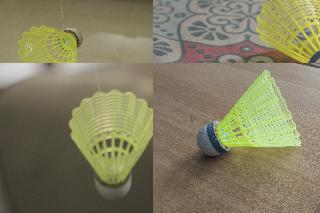shuttlecock: (68, 88, 152, 201), (196, 67, 302, 155), (255, 0, 319, 62), (18, 25, 83, 62)
